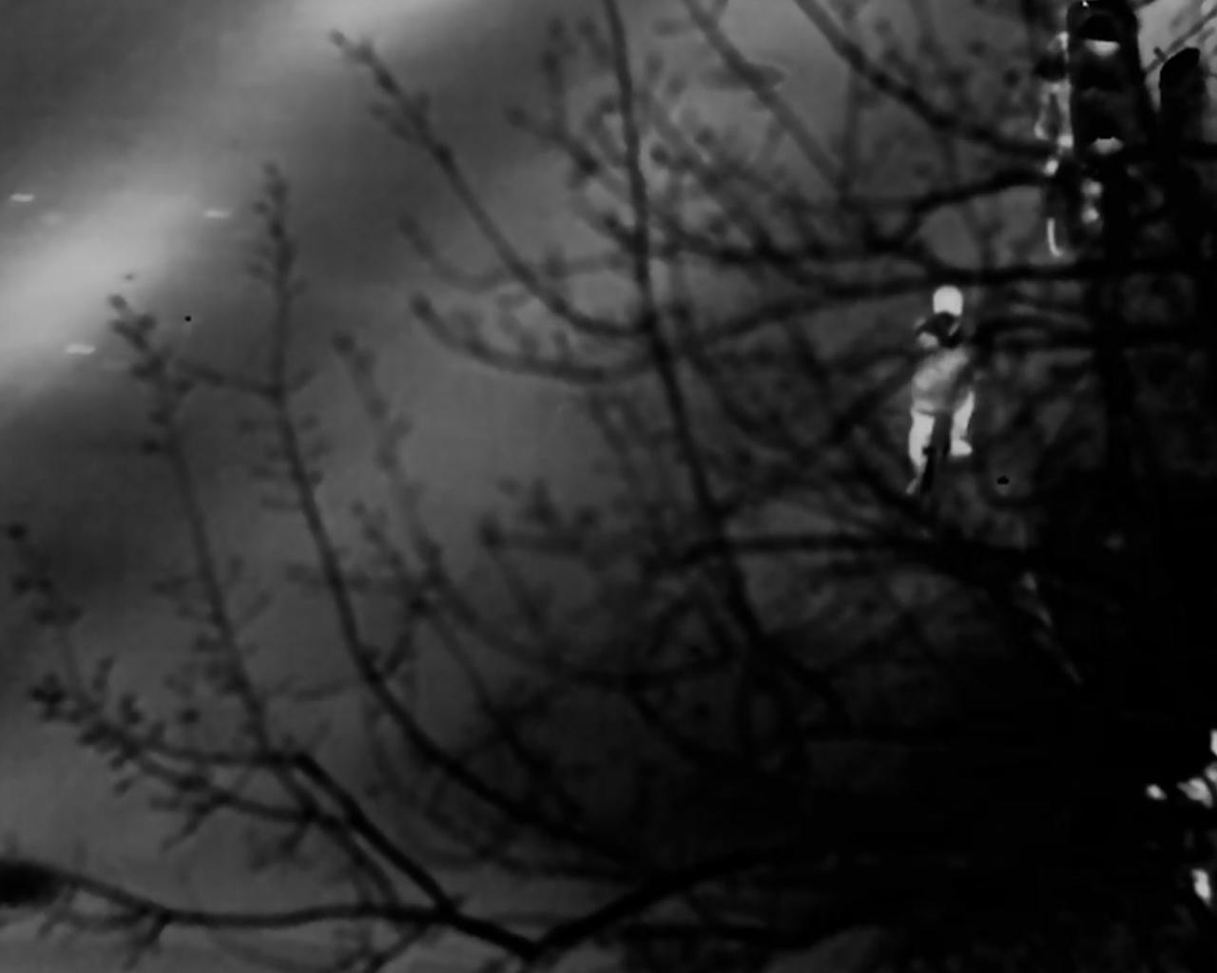person: (913, 282, 985, 502), (1046, 16, 1101, 253)
